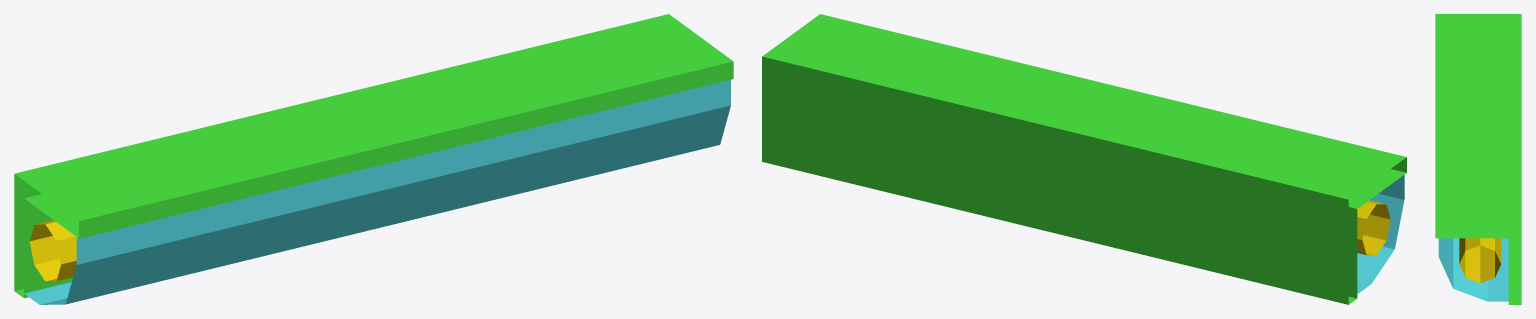
The model's file is Lamp_08_Middle.fbx.
The picture shows the model from 3 angles, left to right: view 1: azimuth 30°, elevation 25°; view 2: azimuth 150°, elevation 25°; view 3: azimuth 270°, elevation 25°; orthographic projection. The views are drawn at different scales.
Parts seen in each view (by area): view 1: Lamp_08_Middle; view 2: Lamp_08_Middle; view 3: Lamp_08_Middle.
Boxes of the visible parts, left/top/right/bottom form: Lamp_08_Middle: left=14, top=14, right=733, bottom=304; Lamp_08_Middle: left=762, top=14, right=1406, bottom=304; Lamp_08_Middle: left=1435, top=14, right=1521, bottom=304.
Bounding box in the file's own units: 91.44 × 15.69 × 15.69.
